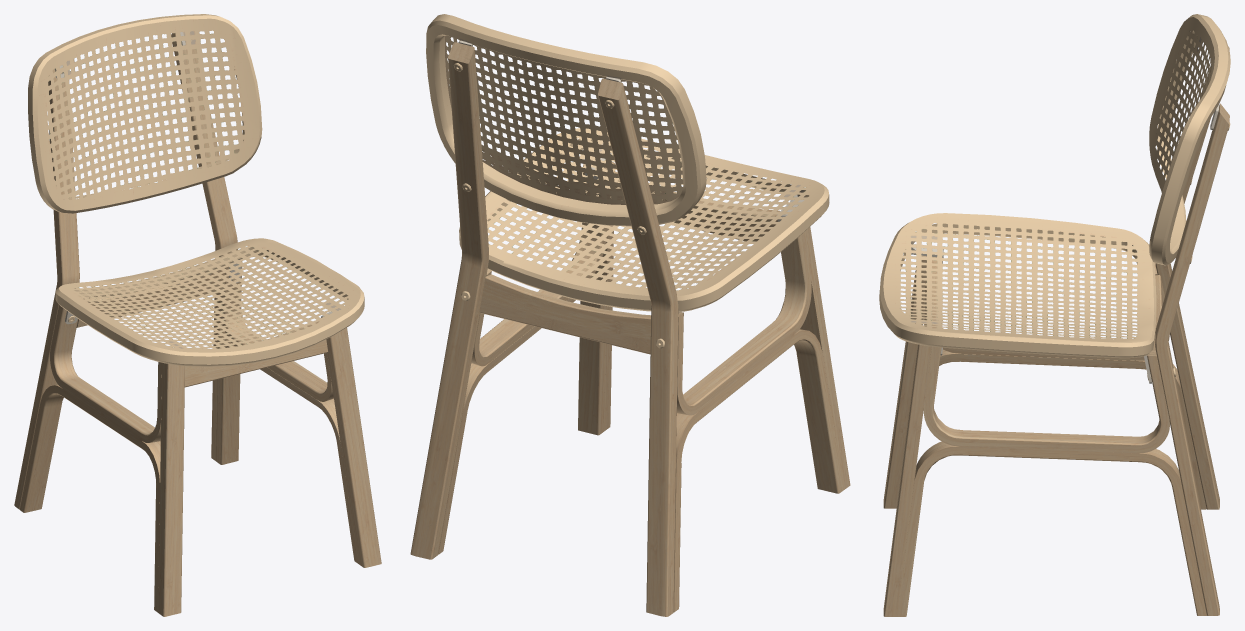
Rendered from voxlov_krzeso_50450236.glb.
The picture shows the model from 3 angles, left to right: view 1: azimuth 30°, elevation 25°; view 2: azimuth 150°, elevation 25°; view 3: azimuth 270°, elevation 25°; orthographic projection. The views are drawn at different scales.
Parts seen in each view (by area): view 1: voxlov_krzeso_50450236; view 2: voxlov_krzeso_50450236; view 3: voxlov_krzeso_50450236.
Boxes of the visible parts, x1=… form: voxlov_krzeso_50450236: x1=14, y1=14, x2=381, y2=616; voxlov_krzeso_50450236: x1=410, y1=14, x2=850, y2=616; voxlov_krzeso_50450236: x1=879, y1=14, x2=1230, y2=616.
Bounding box in the file's own units: 0.4499 × 0.8506 × 0.5396.
Materials: 1 (1 with a texture image).
